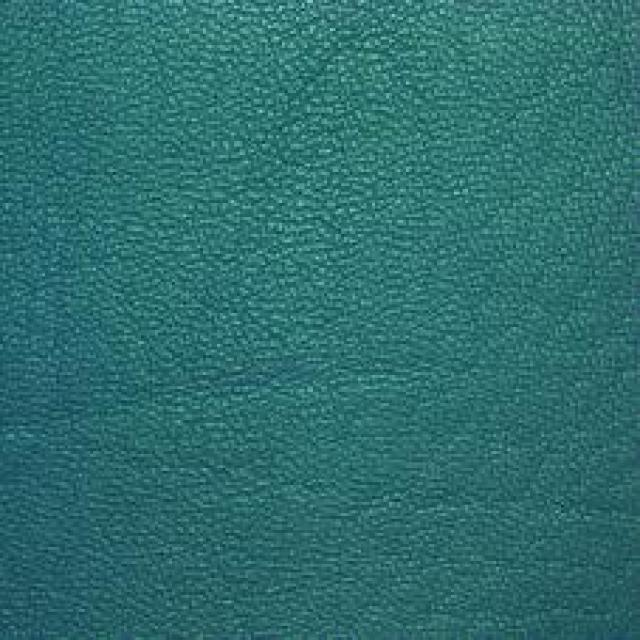Growth Marks: (74, 344, 382, 453), (408, 478, 614, 554)
